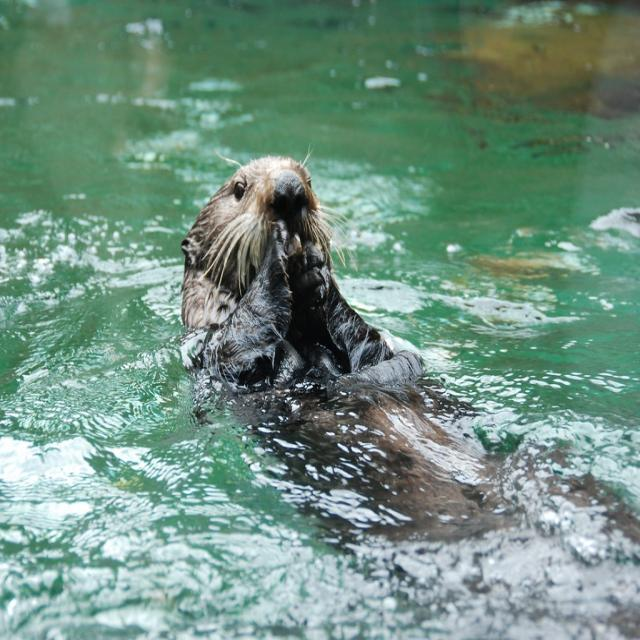otter: (182, 159, 427, 396)
